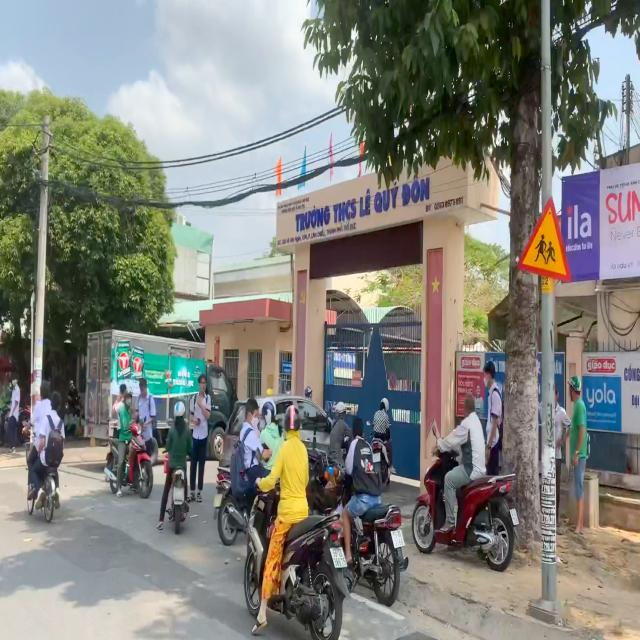Nguy hiem: (514, 190, 574, 288)
